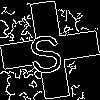S: (25, 25, 65, 75)
